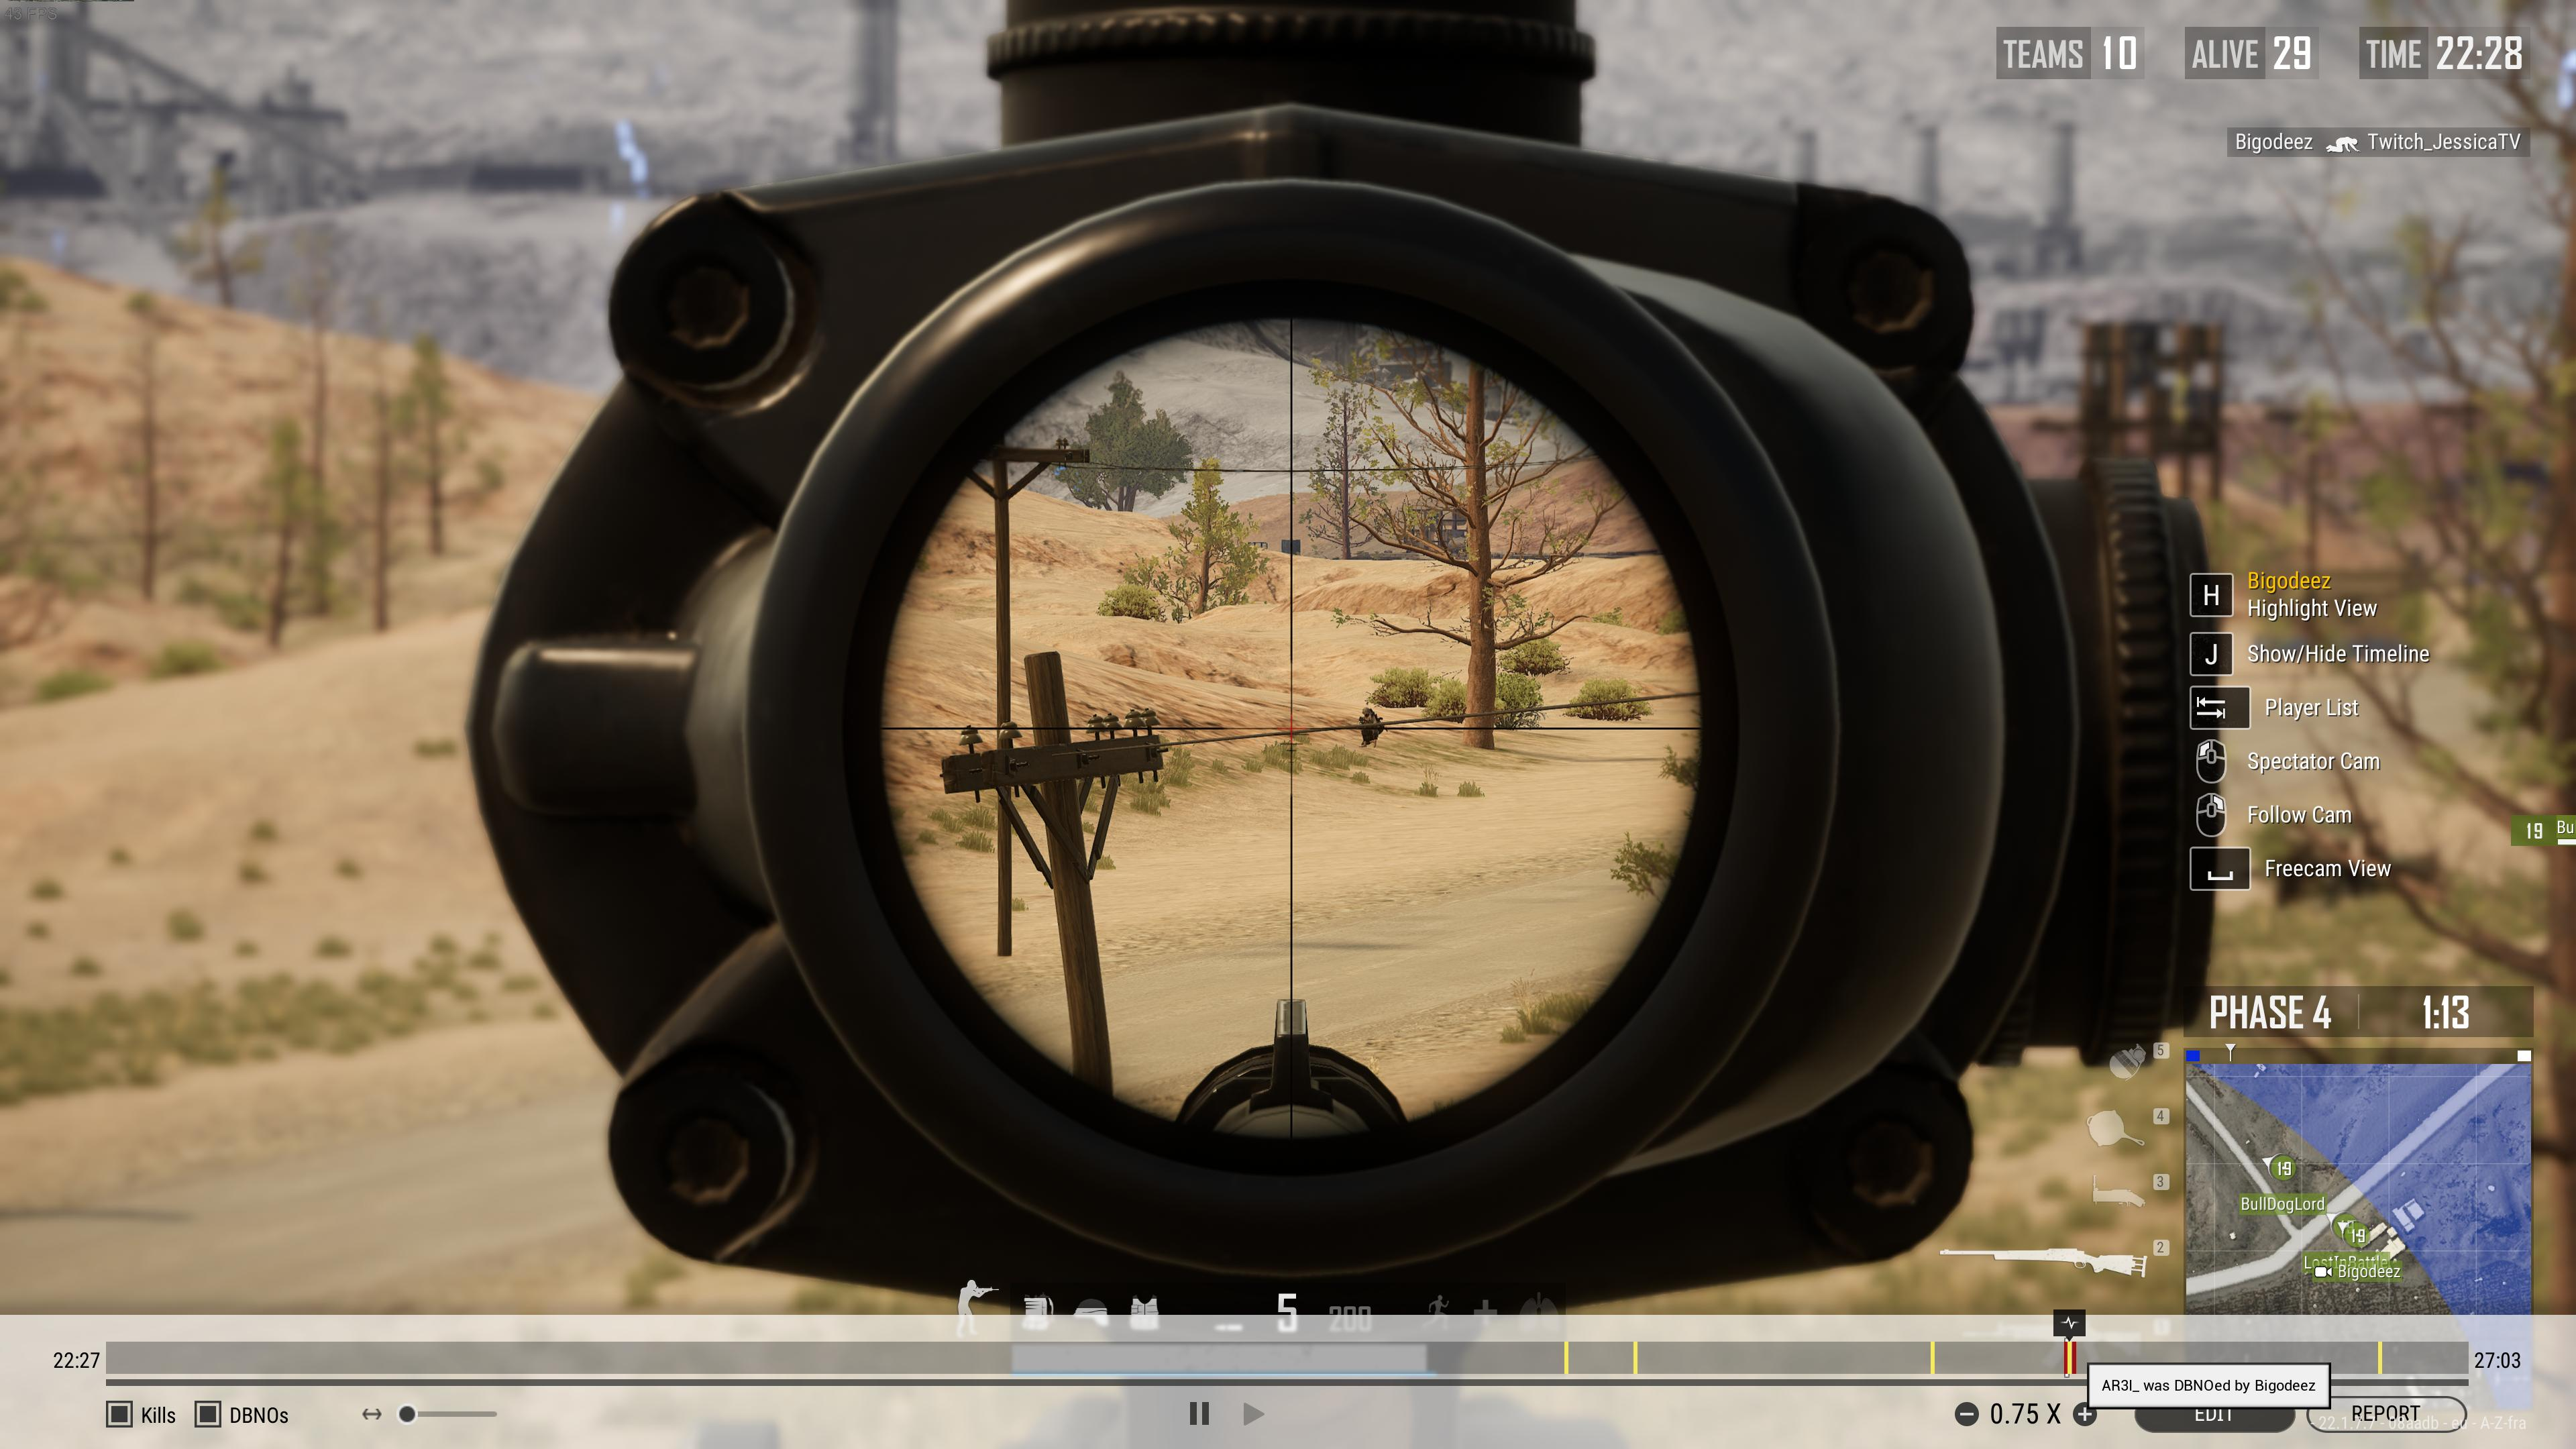enemy: (1357, 706, 1382, 747)
enemy_head: (1361, 706, 1369, 717)
